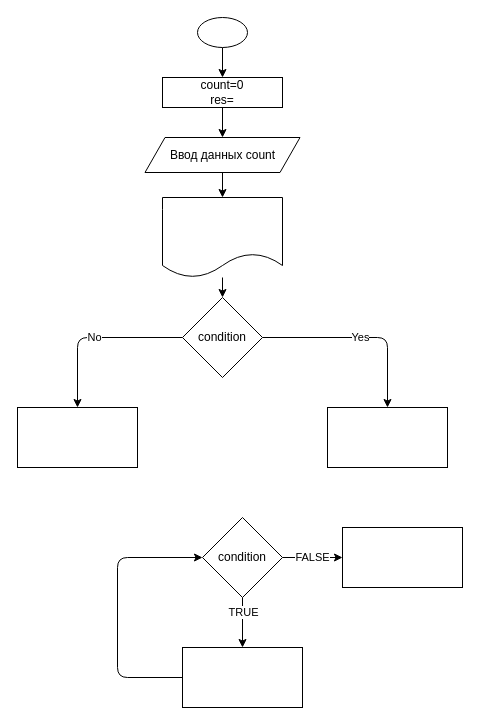
This 480x725 diagram has some shape labels left out. Each missing label, with the centre of its shape:
"start" goes at [222,32].
"Вывод данных res" goes at [222,237].
